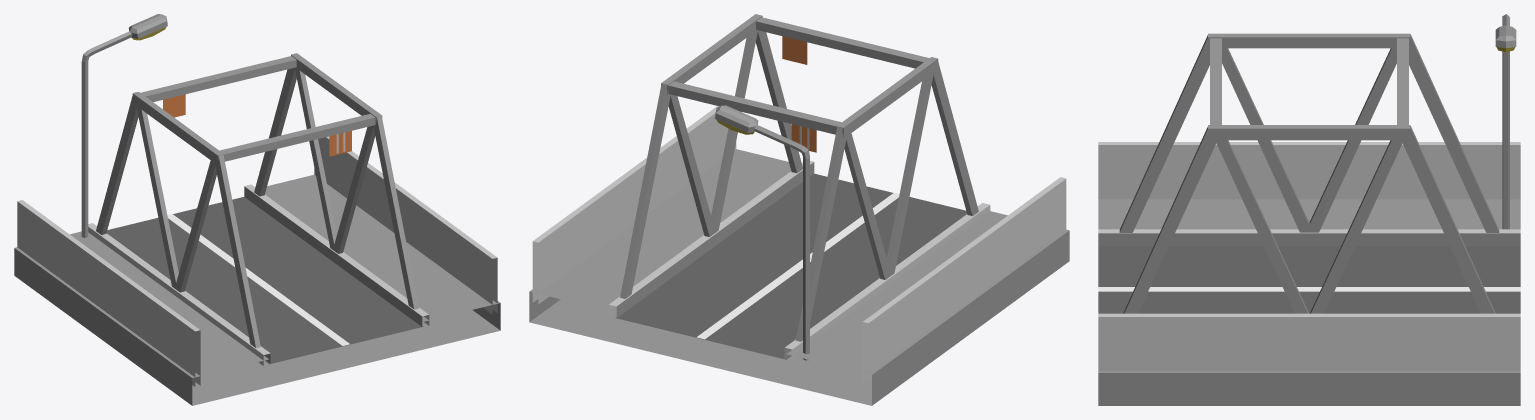
File: road_tile_bridge_1x1_005.fbx
3 renders of one model, left to right at view 1: azimuth 30°, elevation 25°; view 2: azimuth 150°, elevation 25°; view 3: azimuth 270°, elevation 25°, orthographic. The views are drawn at different scales.
Visible parts, largest first — view 1: road_tile_bridge_1x1_005; view 2: road_tile_bridge_1x1_005; view 3: road_tile_bridge_1x1_005.
Part boxes in pixels (x1,y1,x2,y2): road_tile_bridge_1x1_005: [14, 14, 500, 405]; road_tile_bridge_1x1_005: [529, 14, 1069, 405]; road_tile_bridge_1x1_005: [1098, 14, 1520, 405].
Size of the model in its own units: 800 by 573 by 800.
